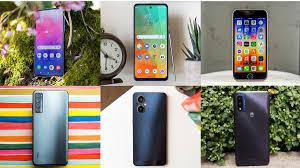Smartphone: (26, 4, 69, 89), (226, 7, 275, 79), (126, 90, 174, 161), (132, 3, 173, 82), (33, 91, 76, 166), (234, 90, 273, 164)
